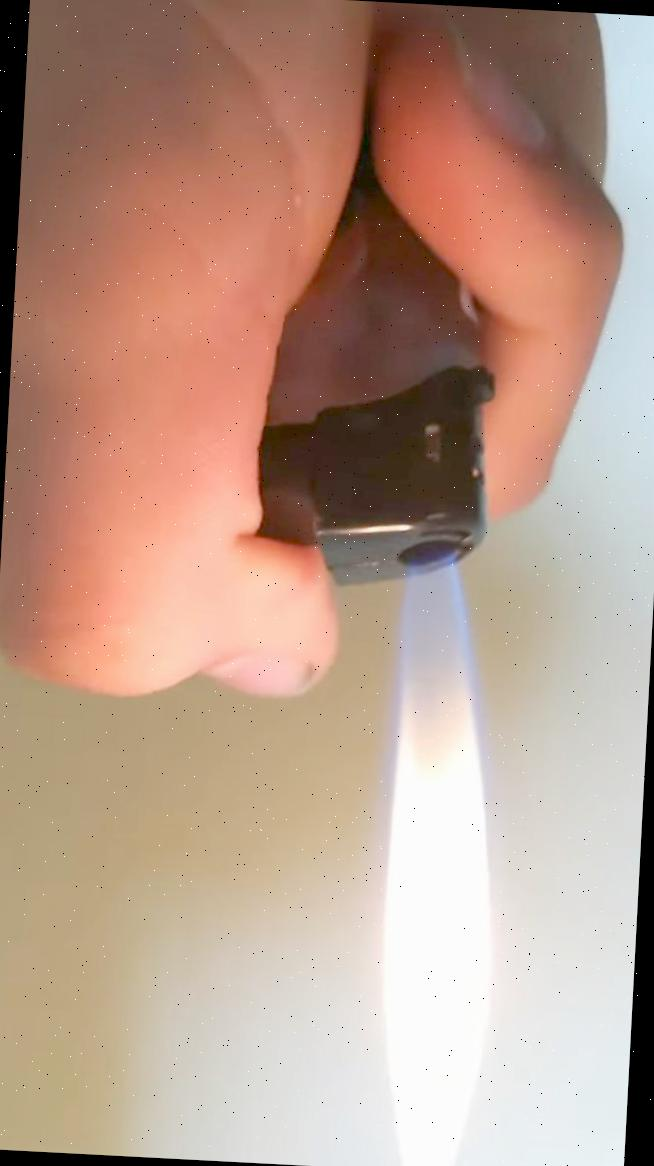fire: (329, 531, 524, 1166)
